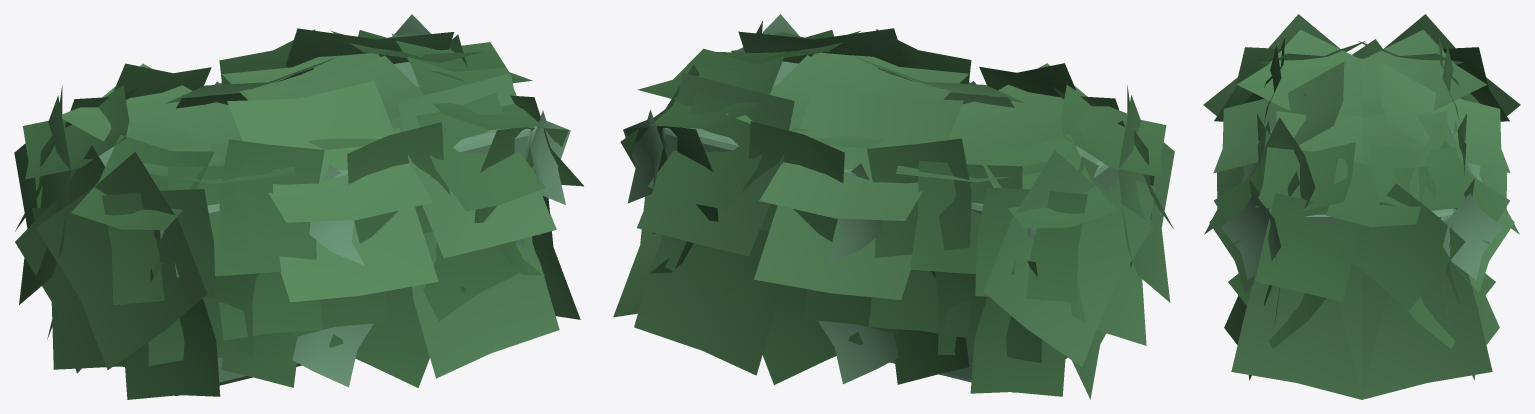
Rendered from Arbusto.fbx.
3 renders of one model, left to right at view 1: azimuth 30°, elevation 25°; view 2: azimuth 150°, elevation 25°; view 3: azimuth 270°, elevation 25°, orthographic. The views are drawn at different scales.
Visible parts, largest first — view 1: Arbusto; view 2: Arbusto; view 3: Arbusto.
Boxes of the visible parts, left/top/right/bottom form: Arbusto: left=14, top=14, right=583, bottom=399; Arbusto: left=613, top=14, right=1174, bottom=399; Arbusto: left=1203, top=14, right=1520, bottom=399.
Size of the model in its own units: 5 by 2.76 by 3.49.
